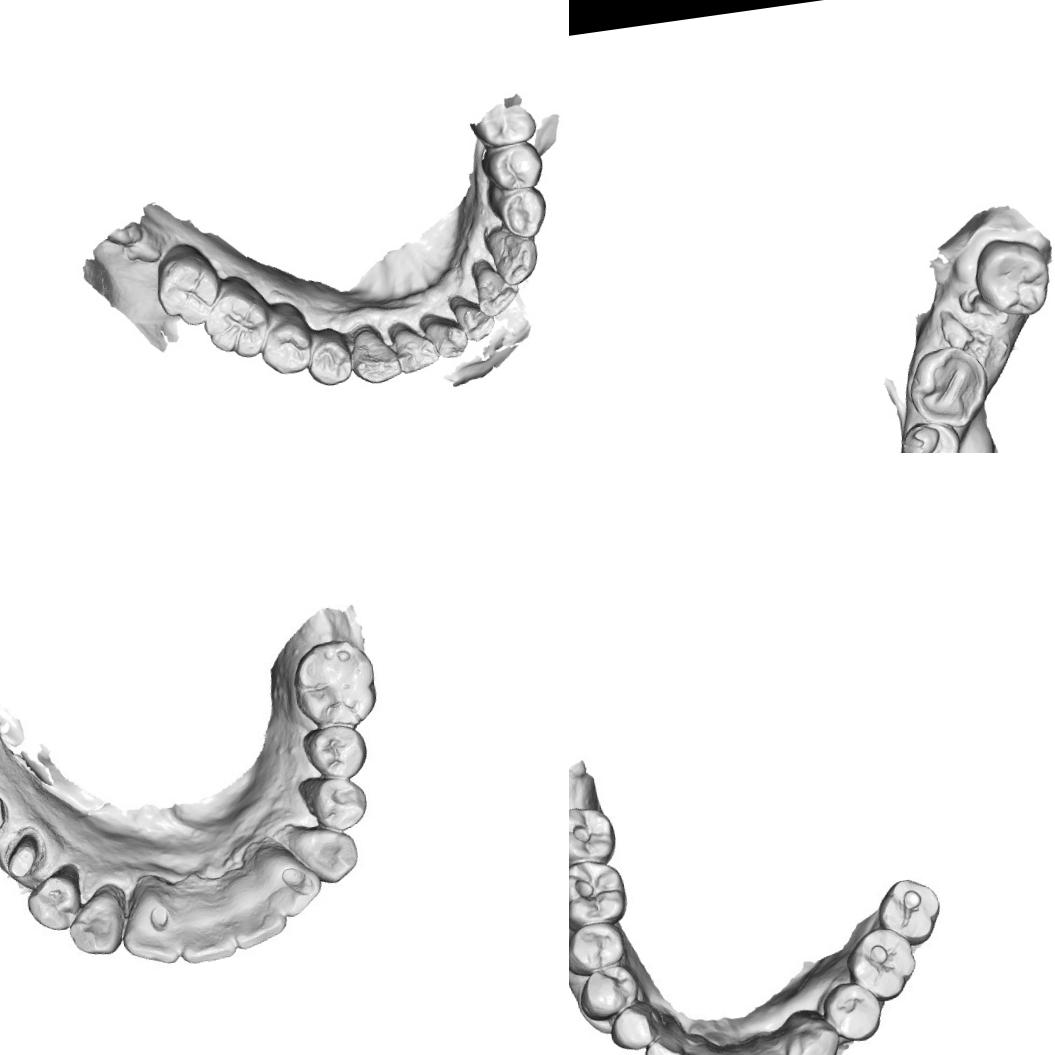canine: (279, 818, 362, 894), (62, 884, 132, 966), (346, 321, 404, 388), (483, 223, 541, 288), (610, 998, 667, 1055), (780, 1007, 845, 1055)
crown: (0, 831, 46, 882)
incisor: (116, 876, 182, 966), (174, 888, 236, 965), (260, 841, 322, 914), (222, 885, 286, 948), (386, 312, 440, 376), (469, 254, 520, 319), (416, 308, 470, 362), (448, 290, 498, 344), (643, 1027, 688, 1055), (746, 1036, 791, 1055), (709, 1038, 759, 1055), (673, 1039, 719, 1055)
molar: (287, 635, 379, 734), (966, 228, 1055, 324), (902, 342, 992, 434), (150, 238, 227, 330), (198, 278, 276, 363), (855, 928, 925, 996), (882, 872, 946, 940), (569, 858, 630, 920), (569, 804, 616, 866)
premolar: (22, 861, 93, 938), (254, 303, 318, 378), (302, 768, 372, 836), (818, 977, 887, 1044), (298, 720, 368, 785), (486, 180, 551, 243), (478, 138, 546, 195), (579, 962, 645, 1018), (569, 917, 631, 975), (302, 324, 355, 389), (898, 414, 968, 453)
